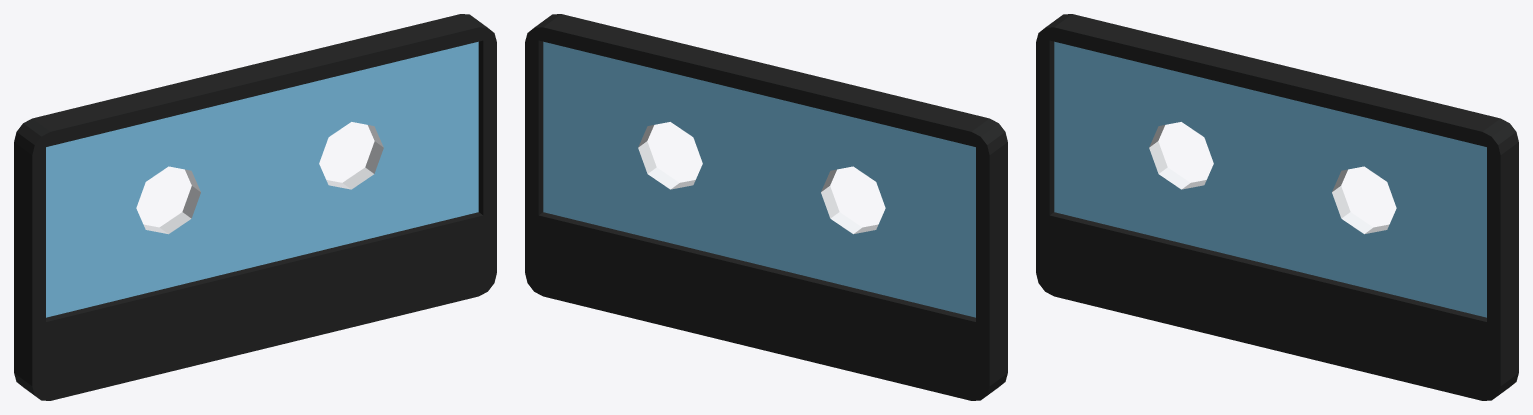
Rendered from Casette_03.fbx.
3 views of the same model, side by side, from view 1: azimuth 30°, elevation 25°; view 2: azimuth 150°, elevation 25°; view 3: azimuth 330°, elevation 25° (orthographic).
Parts seen in each view (by area): view 1: Plane.063; view 2: Plane.063; view 3: Plane.063.
Boxes of the visible parts, x1=… form: Plane.063: x1=14, y1=14, x2=496, y2=400; Plane.063: x1=525, y1=14, x2=1007, y2=400; Plane.063: x1=1036, y1=14, x2=1518, y2=400.
Bounding box in the file's own units: 0.2966 × 0.0202 × 0.1642.
